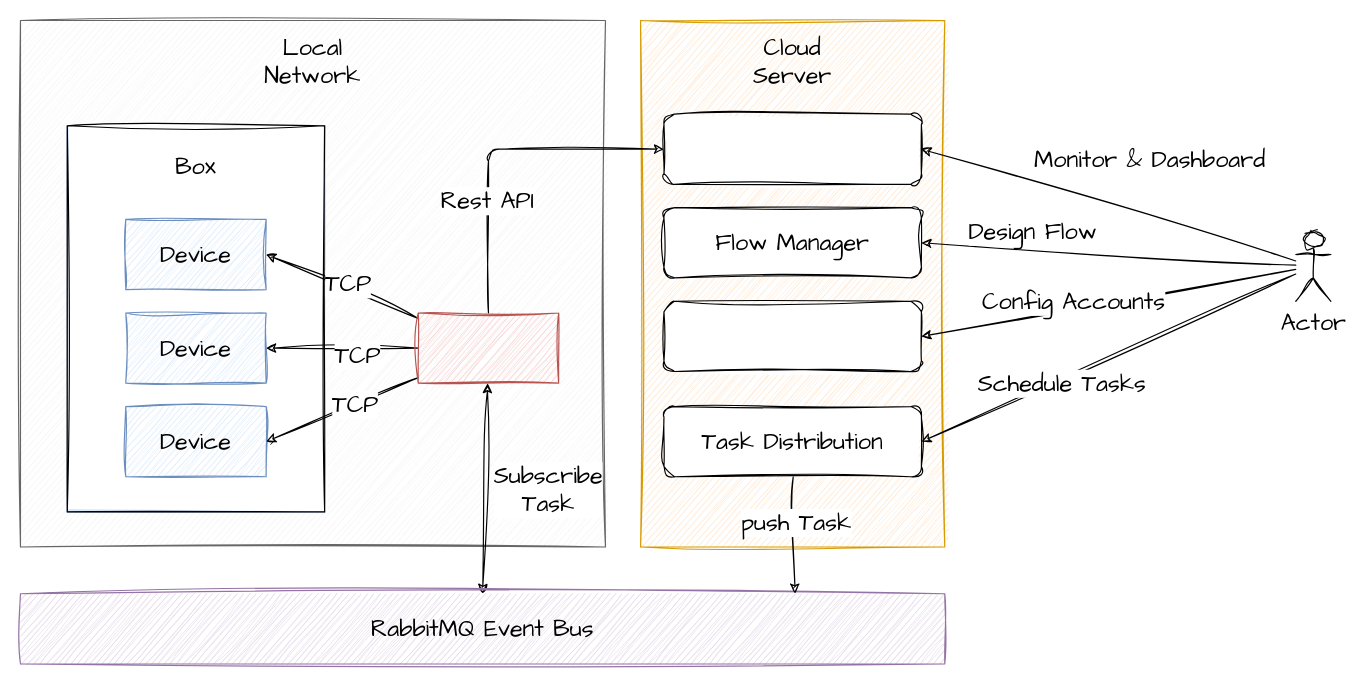
The diagram is 1367 pixels wide and 684 high, and some of its shapes have lost their labels. Here are the shapes that lost their labels. From the top down, the box of each, then its label:
(663, 113, 921, 184): Agent Manager
(417, 312, 559, 383): Agent
(663, 300, 921, 371): Profile Configration
